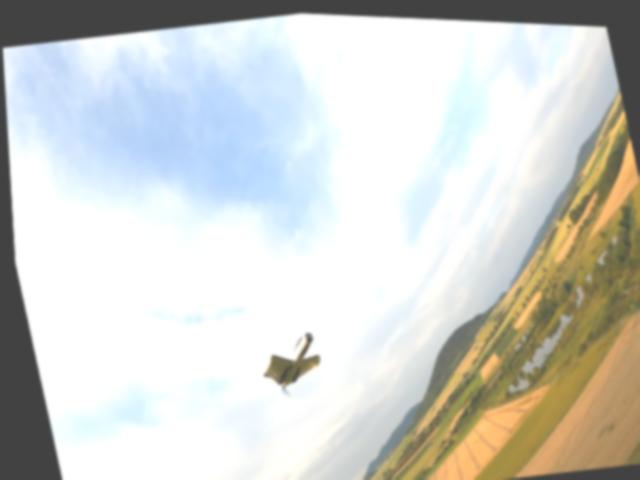plane: (250, 327, 321, 393)
